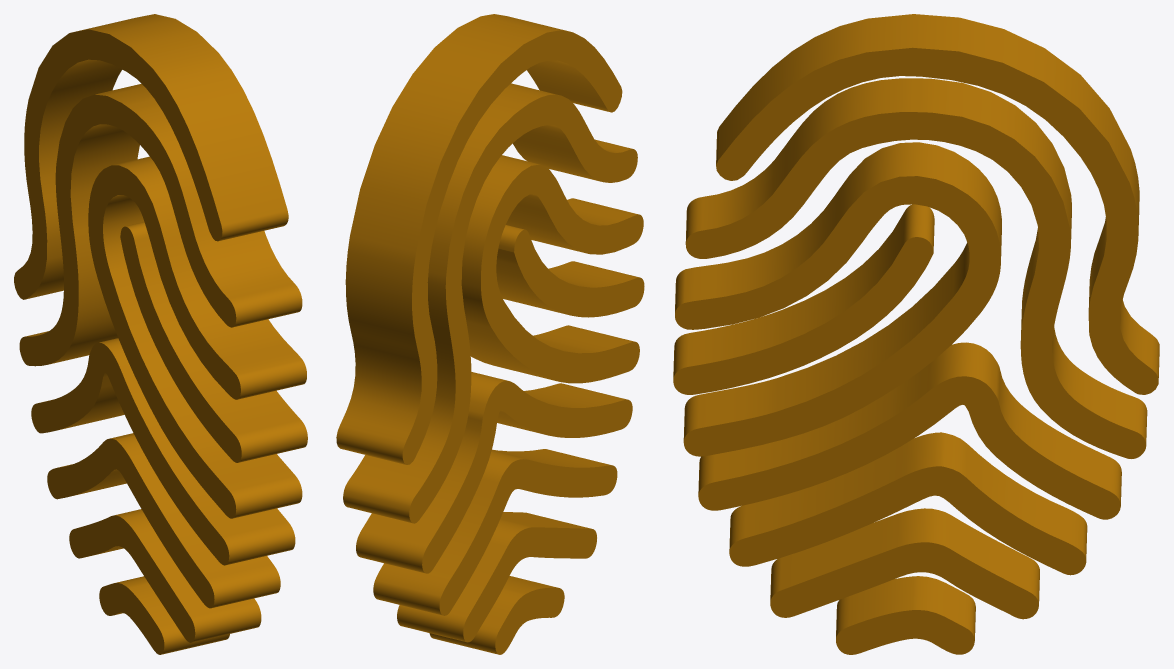
The model's file is thumbprint (anim group transitions).gltf.
3 views of the same model, side by side, from view 1: azimuth 30°, elevation 25°; view 2: azimuth 150°, elevation 25°; view 3: azimuth 270°, elevation 25° (orthographic). The views are drawn at different scales.
Parts seen in each view (by area): view 1: thumb_print; view 2: thumb_print; view 3: thumb_print.
Part boxes in pixels (left/top/right/bottom): thumb_print: left=14, top=14, right=307, bottom=654; thumb_print: left=336, top=14, right=644, bottom=654; thumb_print: left=673, top=14, right=1159, bottom=654.
Bounding box in the file's own units: 0.011 × 0.085 × 0.0615.
1 material, 1 textured.
